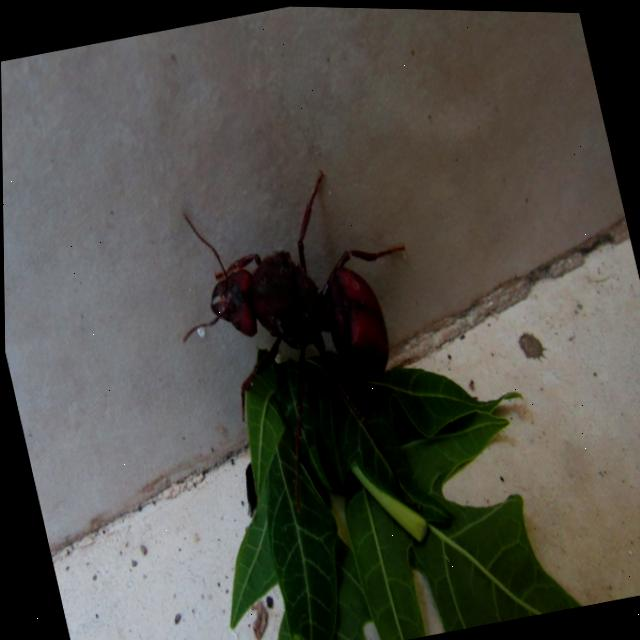Alive-Female-Dealate: (150, 152, 462, 552)
